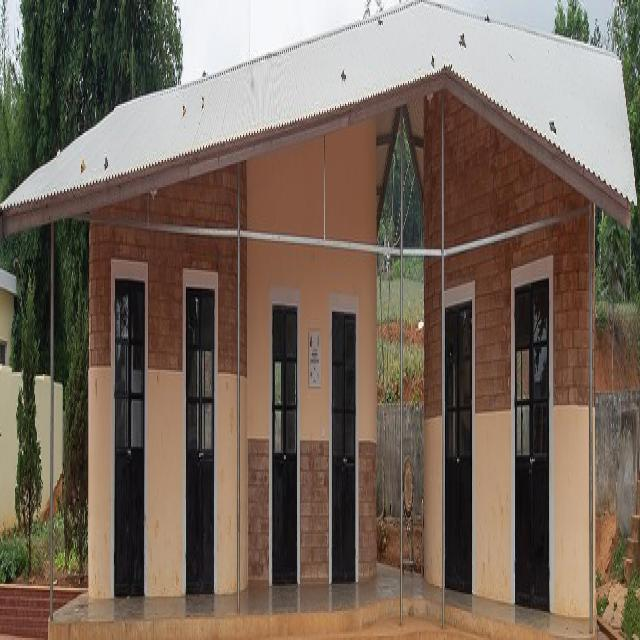door: (511, 277, 554, 626), (110, 267, 149, 608), (182, 277, 217, 607), (444, 300, 475, 608), (269, 293, 300, 597), (330, 303, 358, 594)
